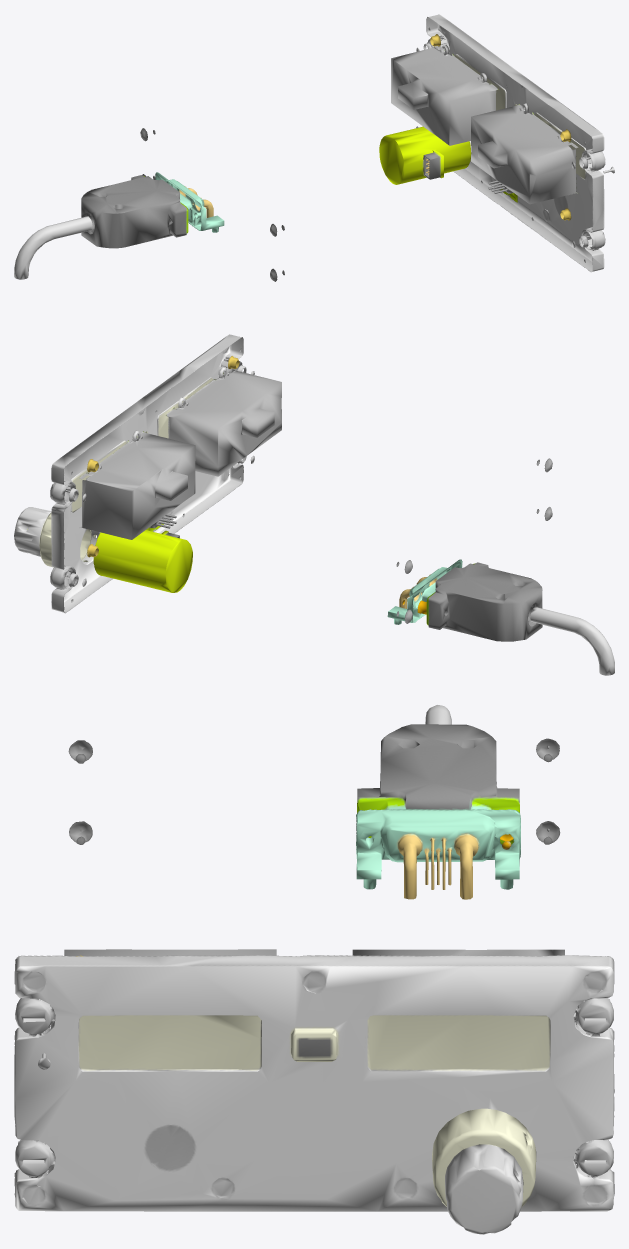
File: Remeshing_test_2524_2_LOD1.fbx
3 renders of one model, top to bottom at view 1: azimuth 30°, elevation 25°; view 2: azimuth 150°, elevation 25°; view 3: azimuth 270°, elevation 25°, orthographic. The views are drawn at different scales.
Parts seen in each view (by area): view 1: Simplygon_Proxy_2b01480b-ddb7-4822-8d92-a26a2f21ac51; view 2: Simplygon_Proxy_2b01480b-ddb7-4822-8d92-a26a2f21ac51; view 3: Simplygon_Proxy_2b01480b-ddb7-4822-8d92-a26a2f21ac51.
Part boxes in pixels (x1,y1,x2,y2): Simplygon_Proxy_2b01480b-ddb7-4822-8d92-a26a2f21ac51: (14,14,614,281); Simplygon_Proxy_2b01480b-ddb7-4822-8d92-a26a2f21ac51: (14,334,614,675); Simplygon_Proxy_2b01480b-ddb7-4822-8d92-a26a2f21ac51: (14,705,614,1234).
Size of the model in its own units: 27.03 by 6.64 by 14.62.
1 material, 1 textured.
